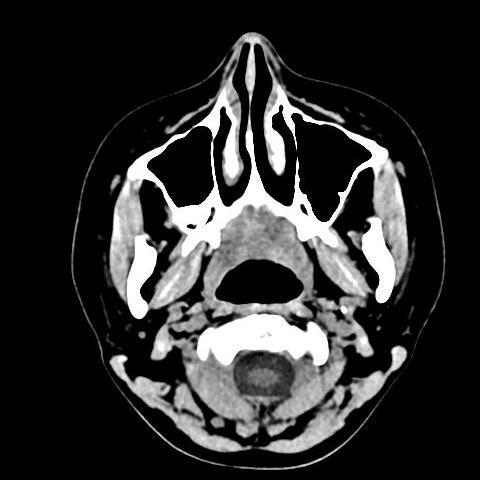Normal_Brain: (60, 15, 465, 475)
